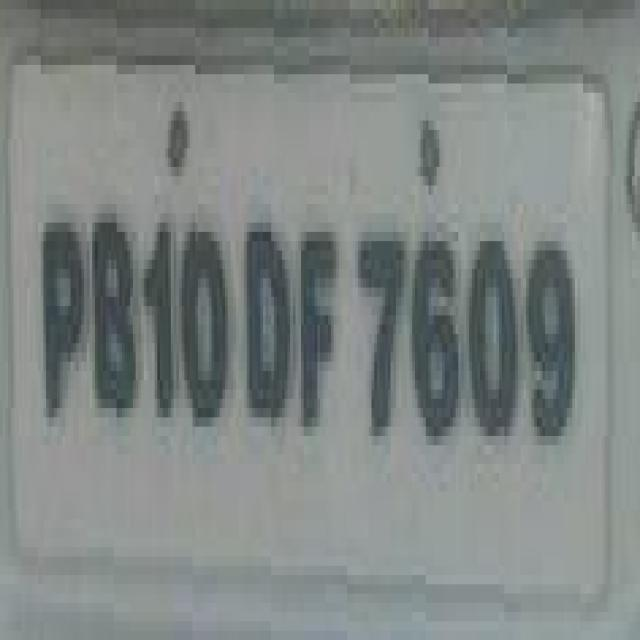license_plate: (0, 19, 613, 594)
